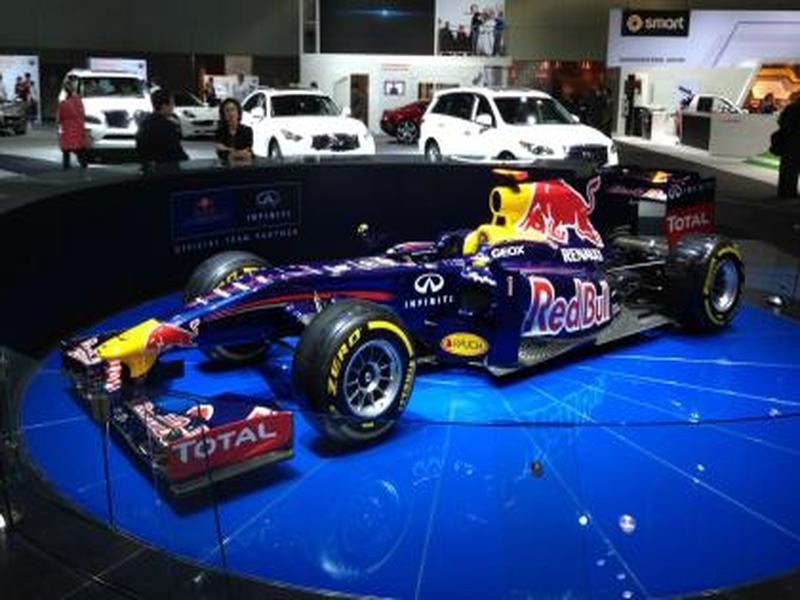f1: (68, 191, 764, 479)
